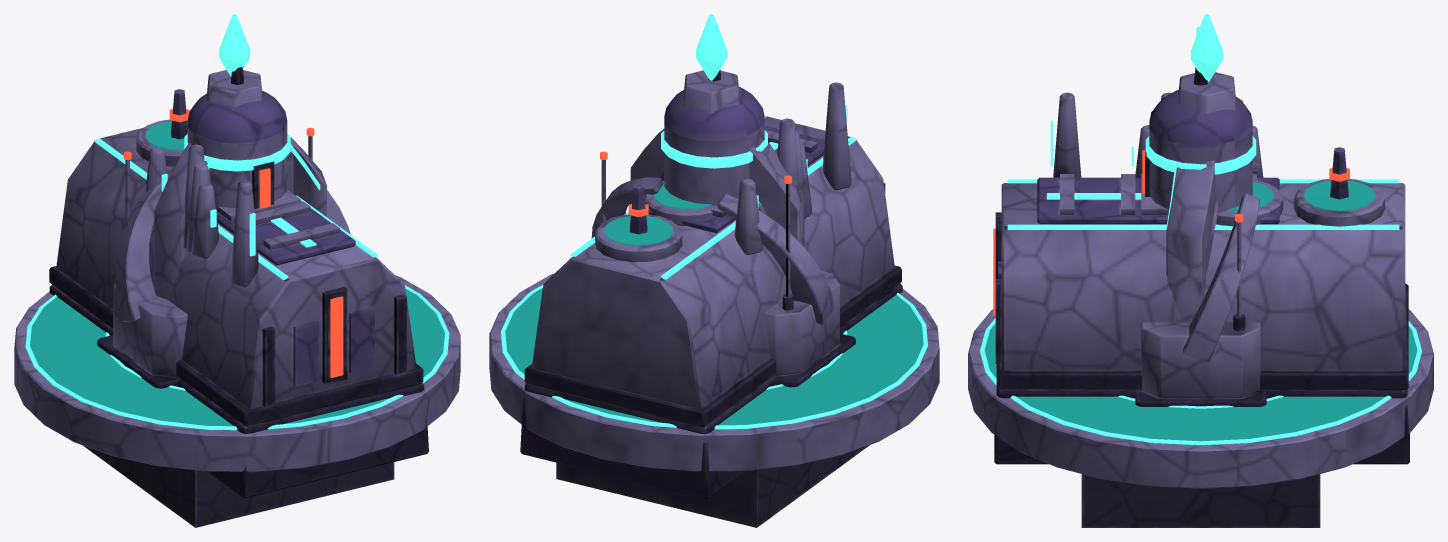
Rendered from facility-kit-v3.glb.
3 views of the same model, side by side, from view 1: azimuth 30°, elevation 25°; view 2: azimuth 150°, elevation 25°; view 3: azimuth 270°, elevation 25° (orthographic). The views are drawn at different scales.
Parts seen in each view (by area): view 1: fk_nacre_hall_l, fk_nacre_pool, fk_nacre_obelisk, fk_nacre_pump, fk_nacre_hall_s, fk_nacre_apron, fk_nacre_arc; view 2: fk_nacre_hall_l, fk_nacre_pool, fk_nacre_obelisk, fk_nacre_pump, fk_nacre_hall_s, fk_nacre_apron, fk_nacre_arc; view 3: fk_nacre_hall_l, fk_nacre_pool, fk_nacre_obelisk, fk_nacre_apron, fk_nacre_hall_s, fk_nacre_pump, fk_nacre_arc.
Part boxes in pixels (x1,y1,x2,y2): fk_nacre_hall_l: [49, 89, 428, 498]; fk_nacre_pool: [14, 275, 460, 472]; fk_nacre_obelisk: [97, 14, 350, 388]; fk_nacre_pump: [184, 29, 290, 211]; fk_nacre_hall_s: [99, 144, 328, 394]; fk_nacre_apron: [83, 445, 394, 527]; fk_nacre_arc: [154, 137, 326, 299]; fk_nacre_hall_l: [520, 82, 902, 498]; fk_nacre_pool: [489, 273, 939, 471]; fk_nacre_obelisk: [591, 14, 855, 387]; fk_nacre_pump: [657, 25, 767, 214]; fk_nacre_hall_s: [624, 118, 851, 391]; fk_nacre_apron: [556, 445, 869, 527]; fk_nacre_arc: [630, 129, 804, 246]; fk_nacre_hall_l: [993, 92, 1409, 464]; fk_nacre_pool: [968, 309, 1433, 488]; fk_nacre_obelisk: [1135, 14, 1266, 406]; fk_nacre_apron: [1081, 474, 1320, 527]; fk_nacre_hall_s: [1102, 92, 1304, 398]; fk_nacre_pump: [1142, 26, 1256, 239]; fk_nacre_arc: [1166, 160, 1215, 323].
Size of the model in its own units: 3.9 by 4.28 by 3.9.
4 materials, 1 textured.
